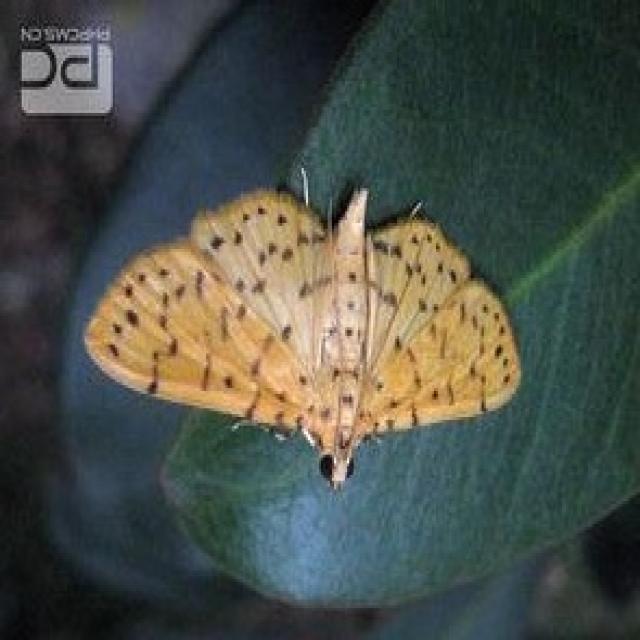peach borer: (77, 175, 524, 493)
